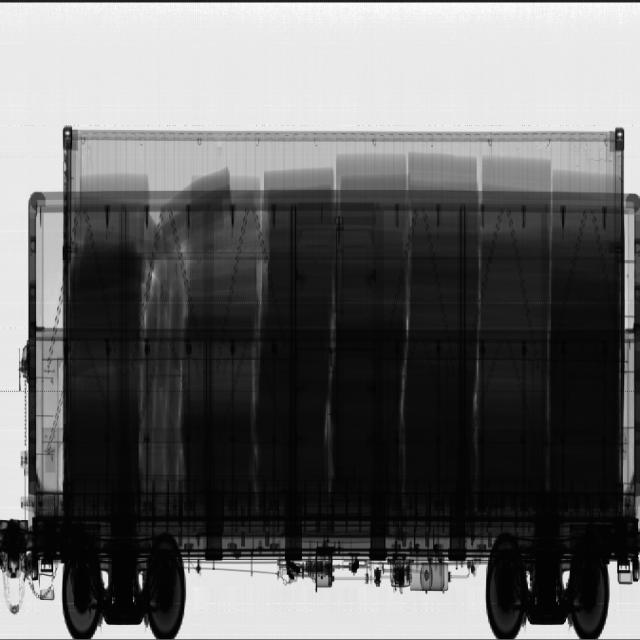fabrics: (66, 150, 620, 495)
